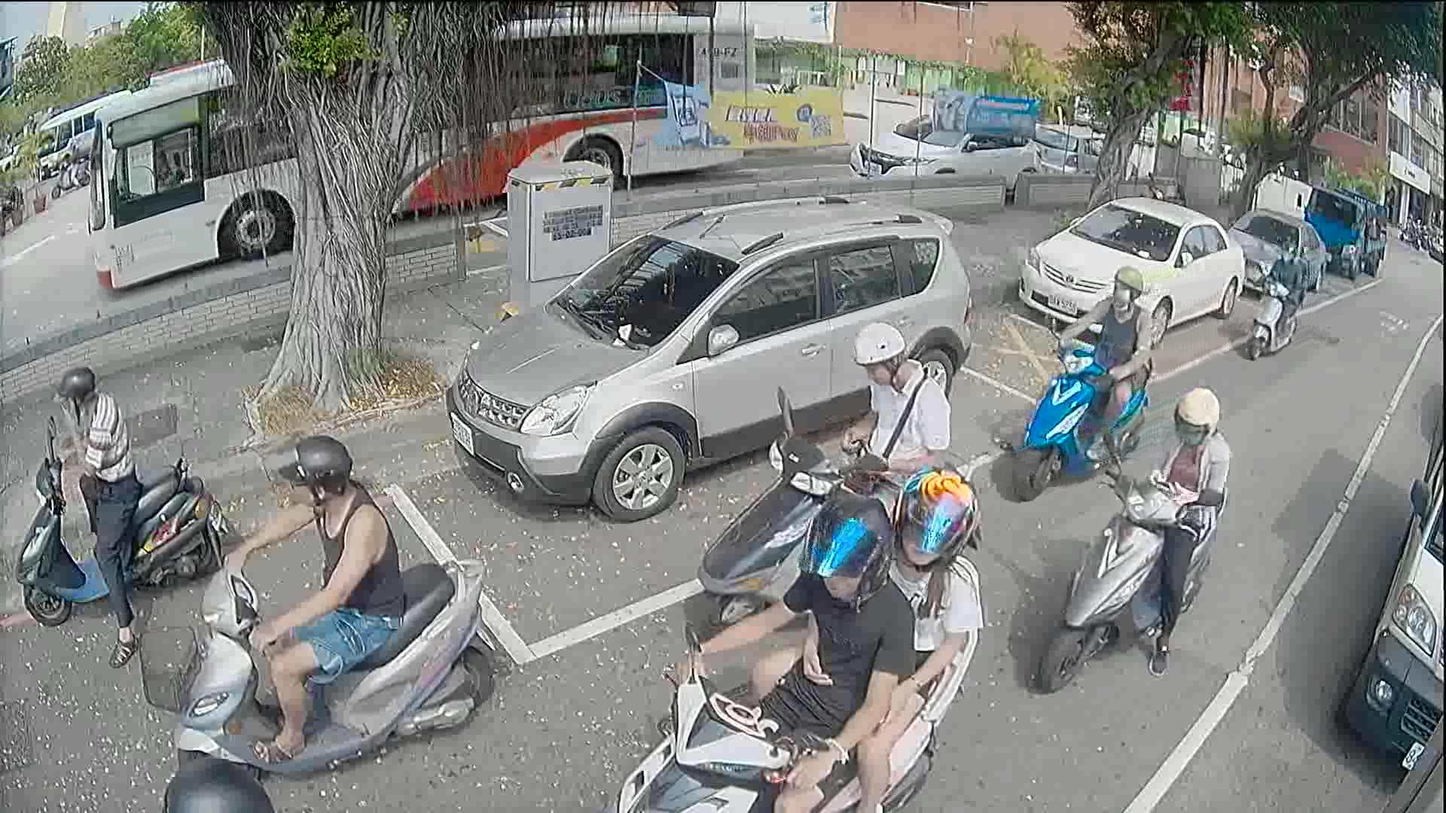person: (654, 492, 912, 812), (764, 466, 982, 809), (214, 423, 403, 769), (49, 353, 142, 670), (1130, 376, 1228, 676), (1030, 263, 1159, 480), (840, 318, 950, 499), (161, 746, 275, 812), (1271, 242, 1318, 328), (60, 136, 85, 188)
